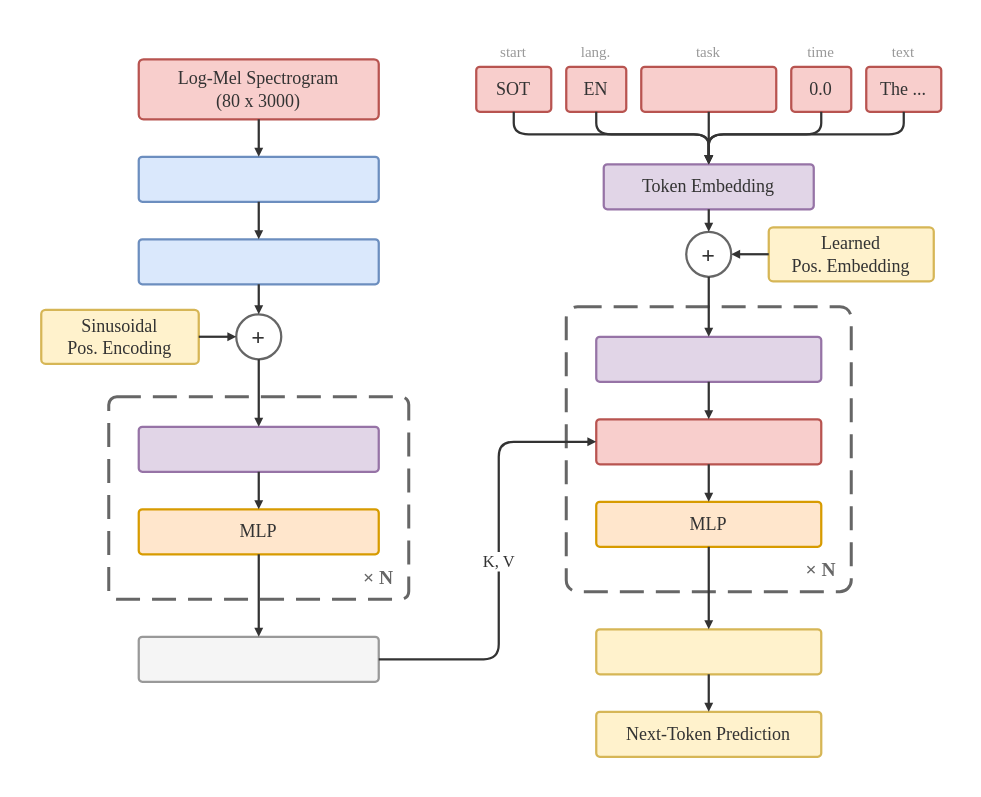
Some shapes in this 981 by 797 pixel diagram are drawn without their labels. Here are the shapes that lost their labels. From the top down, the centre of each, then its label:
At (x=708, y=88): "TRANSCRIBE".
At (x=258, y=178): "Conv1D (k=3) + GELU".
At (x=258, y=261): "Conv1D (k=3, s=2) + GELU".
At (x=708, y=358): "Masked Self-Attention".
At (x=258, y=448): "Self-Attention".
At (x=708, y=441): "Cross-Attention".
At (x=258, y=658): "LayerNorm".
At (x=708, y=651): "Linear + Softmax".
